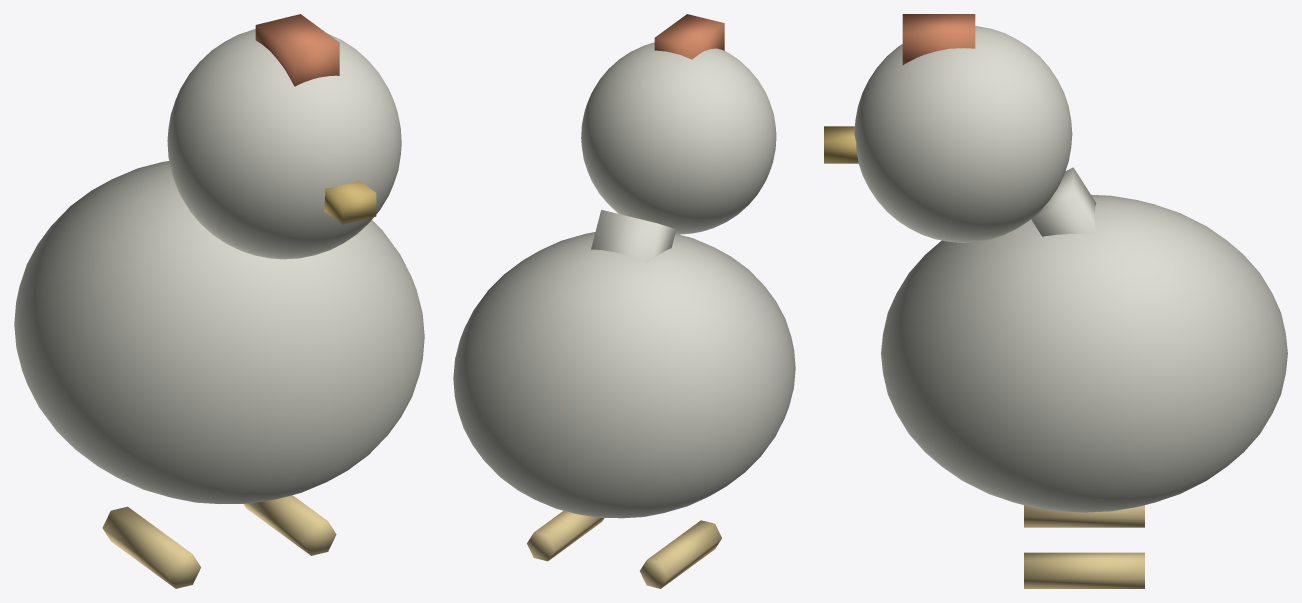
Rendered from animal_chicken_white.glb.
The picture shows the model from 3 angles, left to right: view 1: azimuth 30°, elevation 25°; view 2: azimuth 150°, elevation 25°; view 3: azimuth 270°, elevation 25°; orthographic projection. The views are drawn at different scales.
Parts seen in each view (by area): view 1: body, head, comb, leg-1, leg1, beak; view 2: body, head, tail, leg-1, comb, leg1; view 3: body, head, leg1, comb, tail, leg-1, beak.
Part boxes in pixels (x1,y1,x2,y2): body: [14, 161, 424, 503]; head: [167, 29, 401, 259]; comb: [255, 14, 339, 86]; leg-1: [102, 506, 200, 588]; leg1: [243, 495, 336, 555]; beak: [324, 180, 376, 224]; body: [453, 232, 795, 518]; head: [581, 42, 776, 234]; tail: [591, 209, 676, 263]; leg-1: [640, 520, 721, 588]; comb: [654, 14, 724, 59]; leg1: [527, 510, 604, 561]; body: [881, 194, 1287, 512]; head: [854, 26, 1072, 242]; leg1: [1024, 552, 1144, 588]; comb: [902, 14, 975, 64]; tail: [1031, 167, 1096, 236]; leg-1: [1024, 505, 1144, 527]; beak: [824, 126, 858, 163].
Size of the model in its own units: 0.308 by 0.483 by 0.383.
